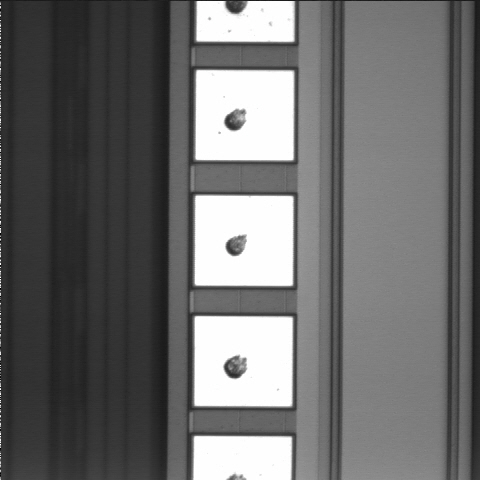pad: (194, 316, 293, 406), (196, 70, 294, 160), (195, 196, 293, 286)
